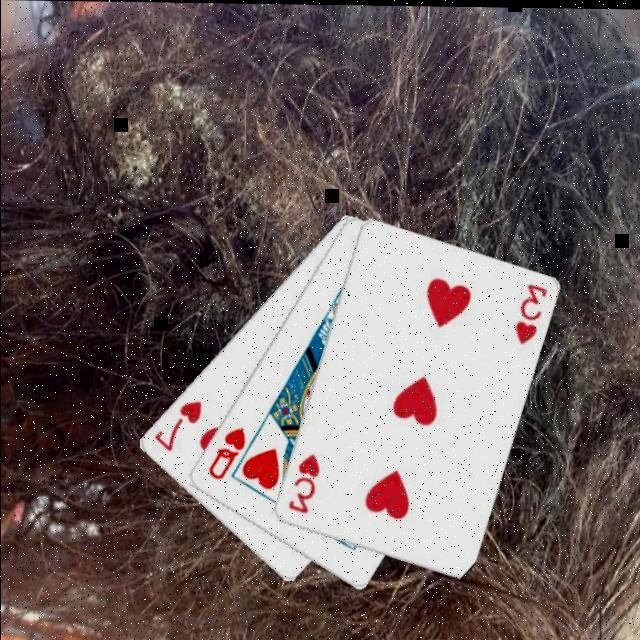3H: (285, 452, 323, 518), (512, 281, 550, 347)
7H: (151, 398, 205, 457)
QH: (205, 424, 249, 485)
